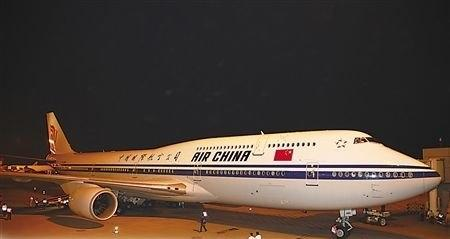airplane: (2, 108, 442, 236)
